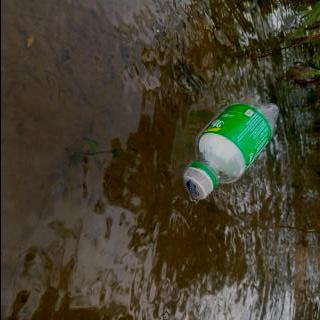bottle: (181, 93, 278, 201)
